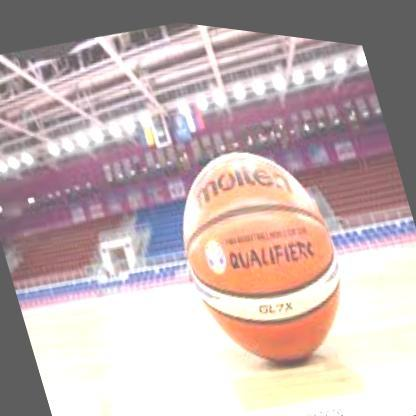basketball: (161, 118, 362, 377)
